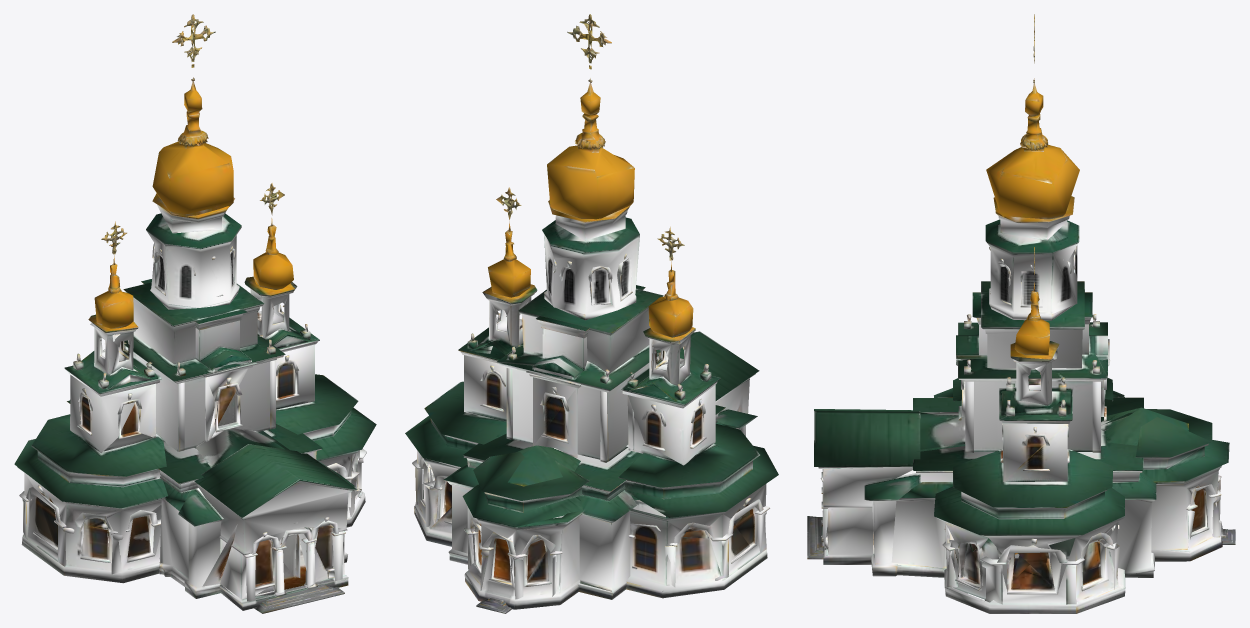
File: cathedral.glb
The picture shows the model from 3 angles, left to right: view 1: azimuth 30°, elevation 25°; view 2: azimuth 150°, elevation 25°; view 3: azimuth 270°, elevation 25°; orthographic projection. The views are drawn at different scales.
Bounding box in the file's own units: 0.6148 × 0.9507 × 0.704.
1 material, 1 textured.
